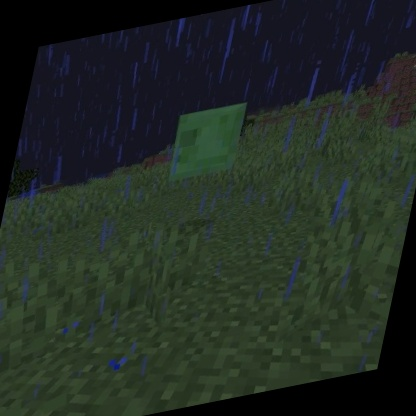slime: (161, 98, 253, 190)
